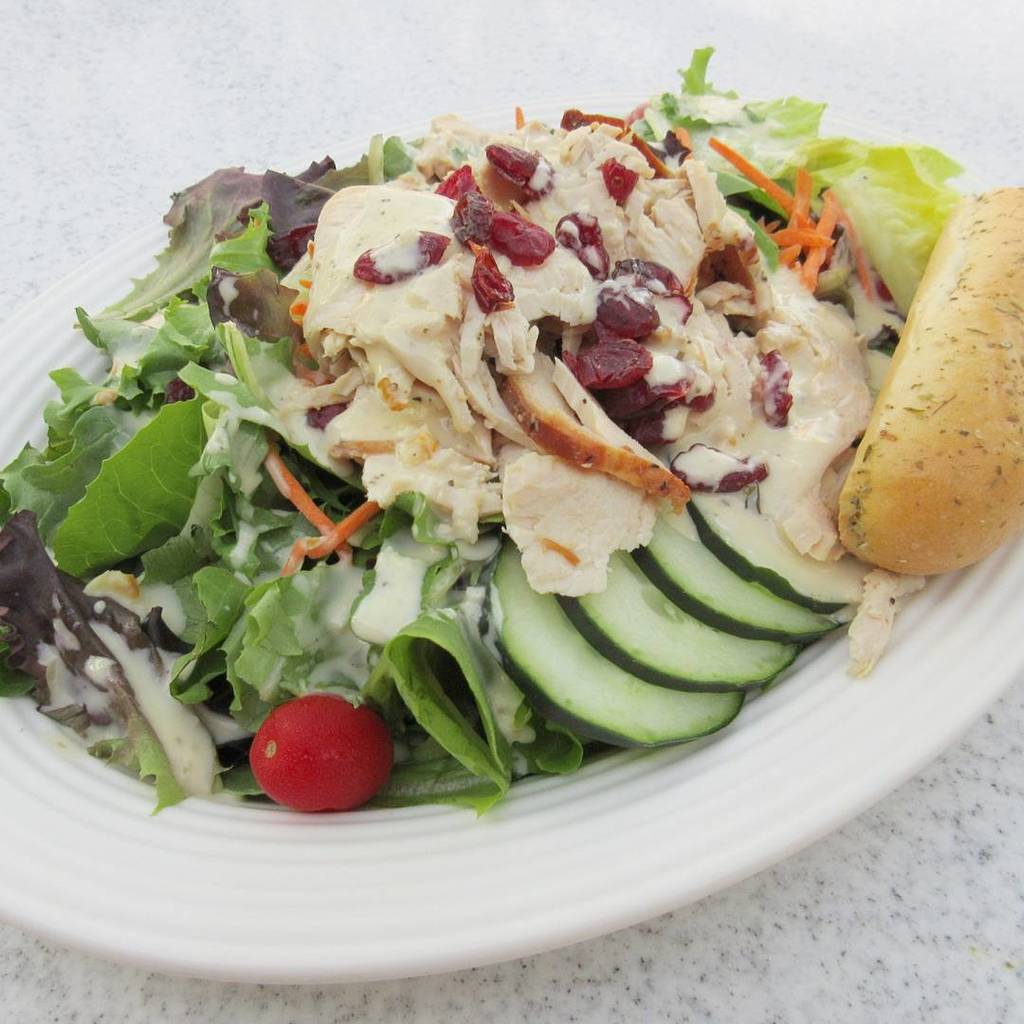Tomato: (249, 693, 414, 786)
